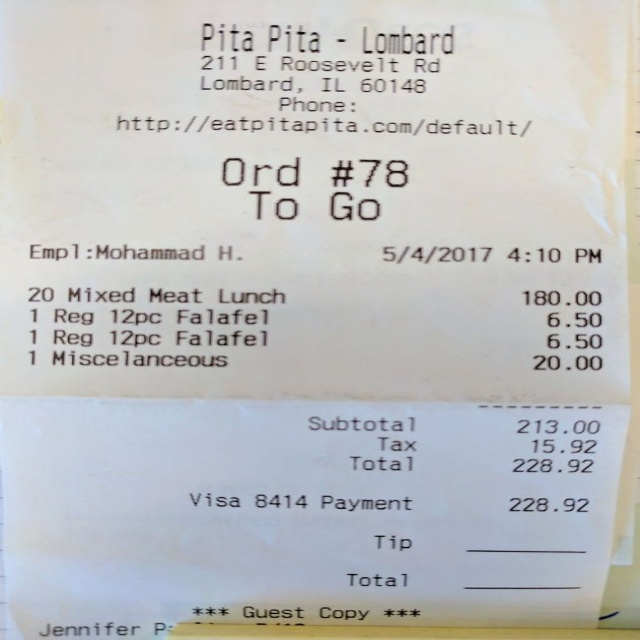invoice_table: (22, 287, 604, 372)
invoice_title: (113, 22, 531, 137)
invoice_total: (347, 453, 595, 480)
